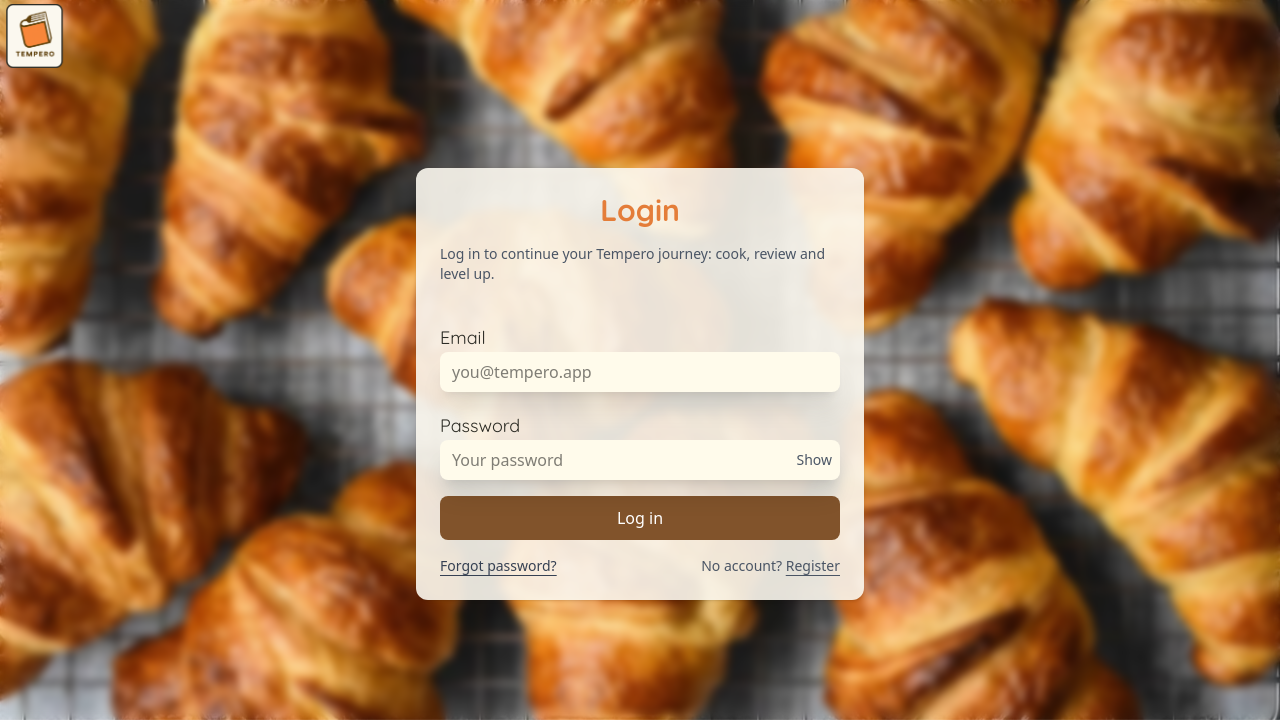
it: LoginPage › normaliza erro de email não confirmado e mostra botão de resend
This screenshot has width=1280, height=720.
Type "test@example.com" into the field labelled "Email".
click(640, 372); type("test@example.com")  # box 440,352 -> 840,392
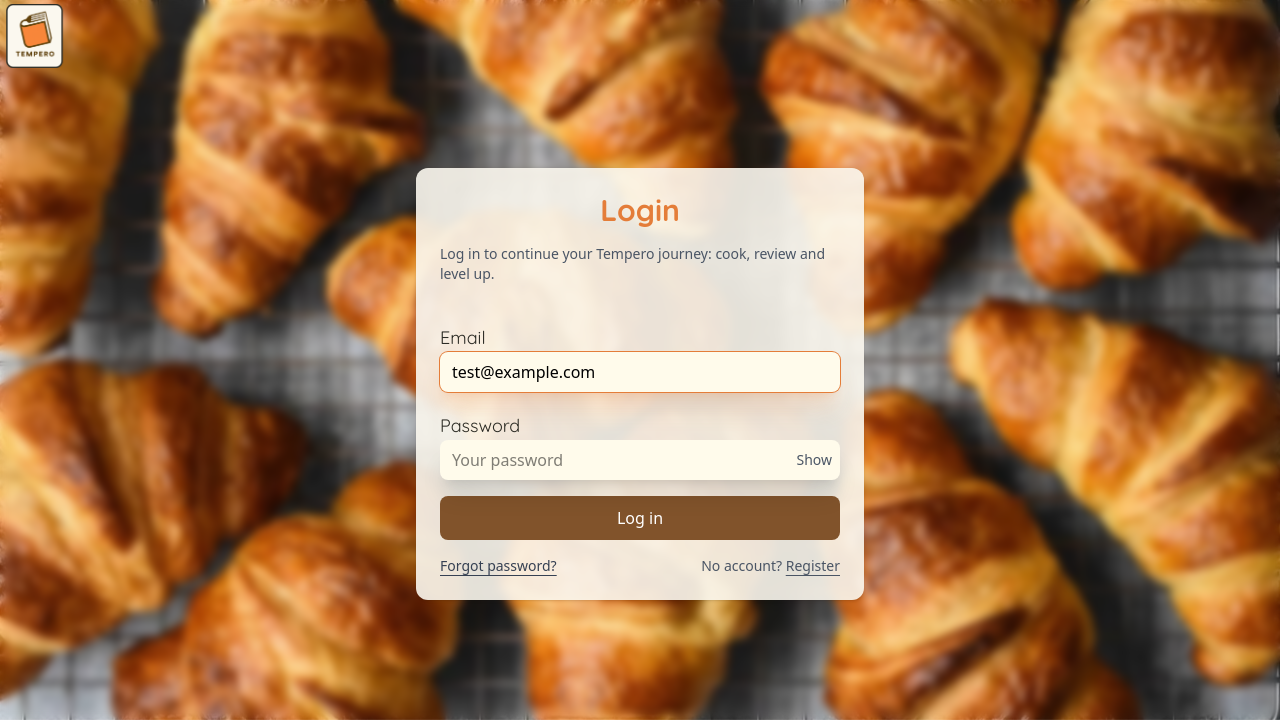
Type "password123" into the password field labelled "Password".
click(640, 460); type("password123")  # box 440,440 -> 840,480
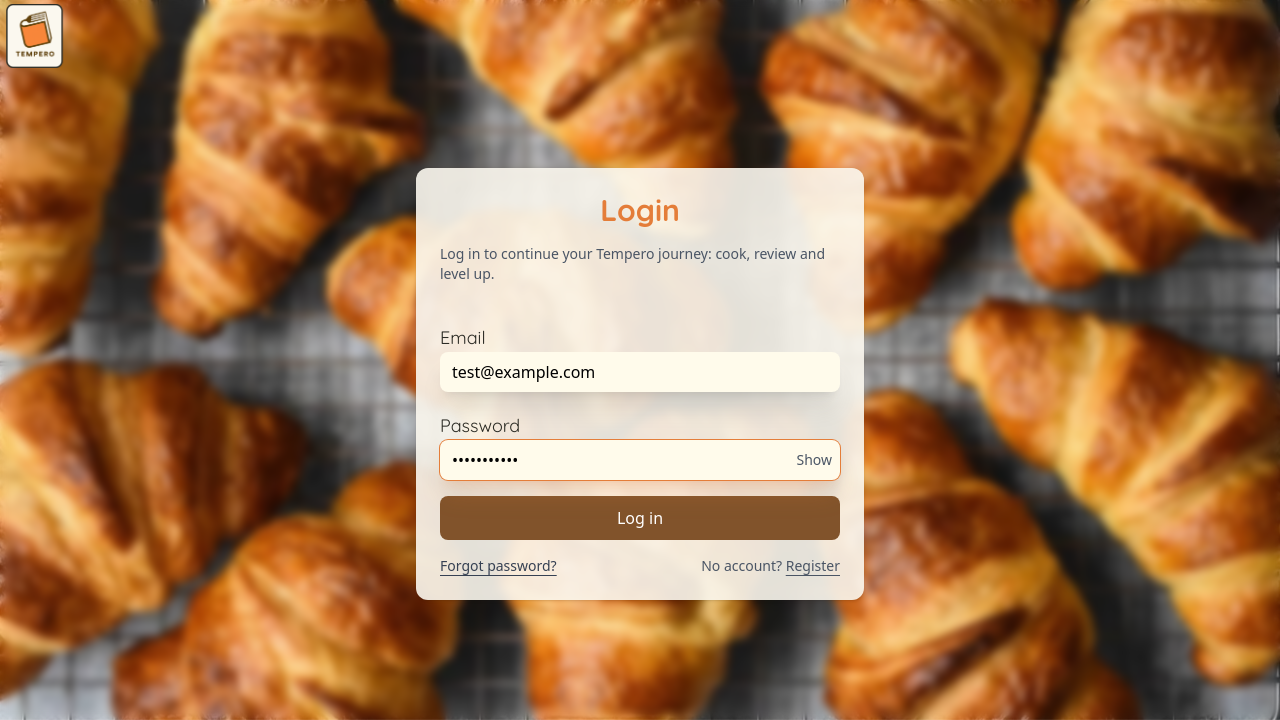
Click the button "Log in".
click(640, 518)  # box 440,496 -> 840,540
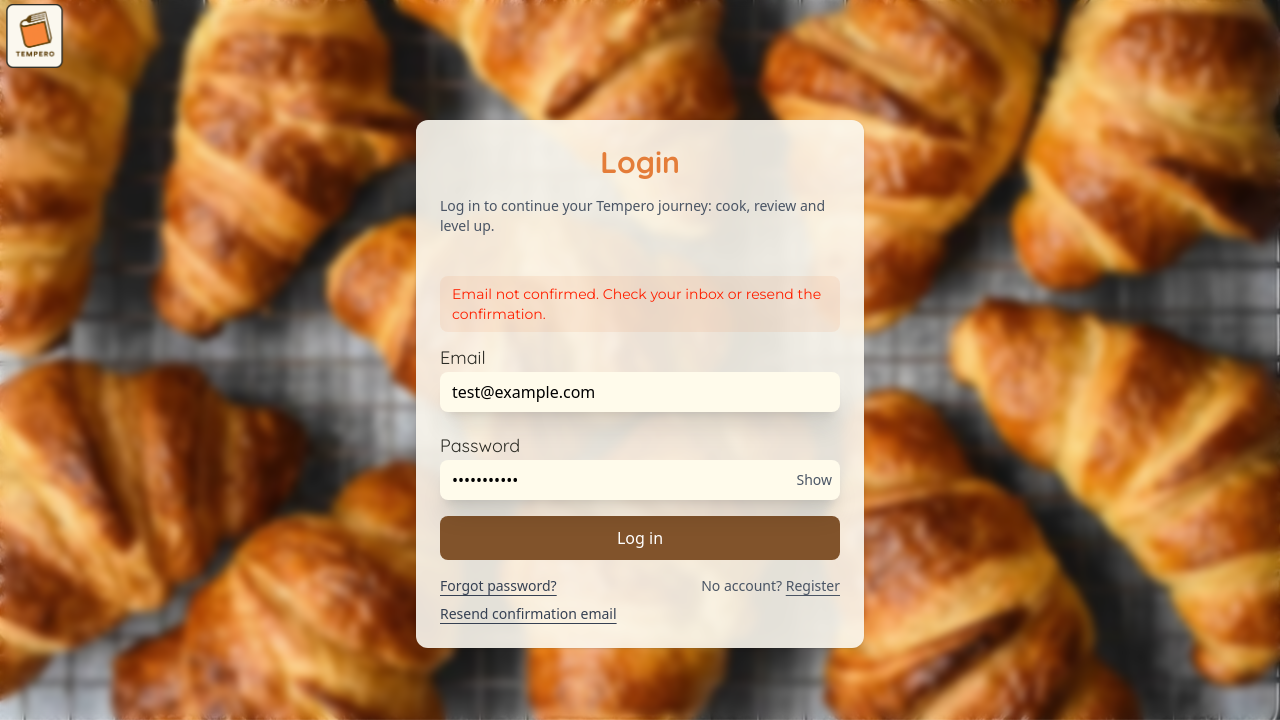
Result: the text "Email not confirmed. Check your inbox or resend the confirmation." is shown at 440,276 -> 840,332
Result: the button "Resend confirmation email" is shown at 440,604 -> 617,624
